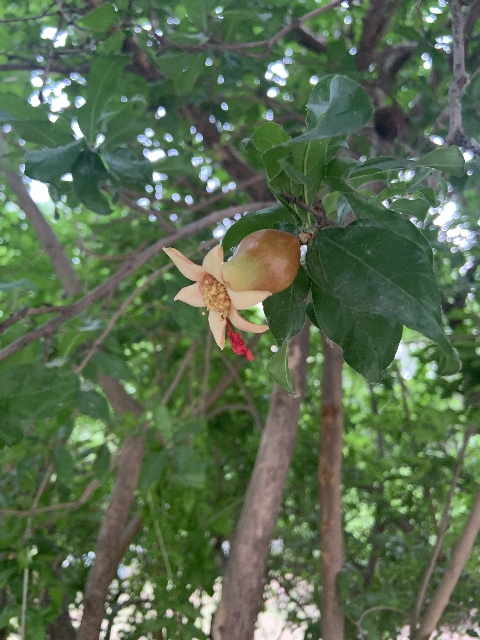early-fruit: (163, 228, 300, 362)
